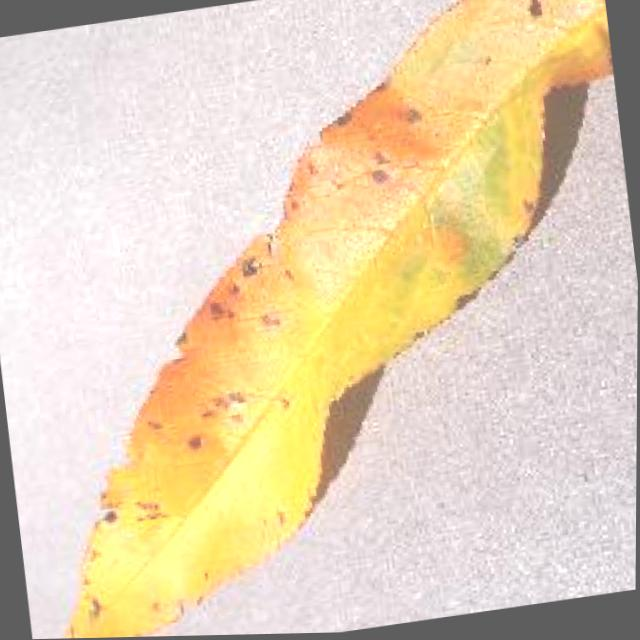Bacterial_spot: (349, 143, 415, 199), (195, 380, 266, 432), (197, 280, 257, 334), (128, 485, 186, 539), (72, 583, 127, 638), (253, 294, 299, 339), (513, 0, 569, 25), (174, 432, 211, 464)
